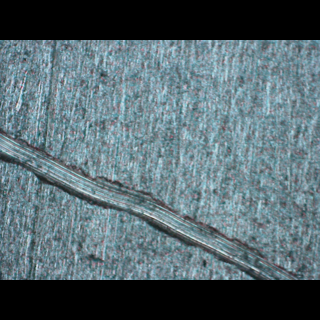d: (0, 122, 303, 279)
